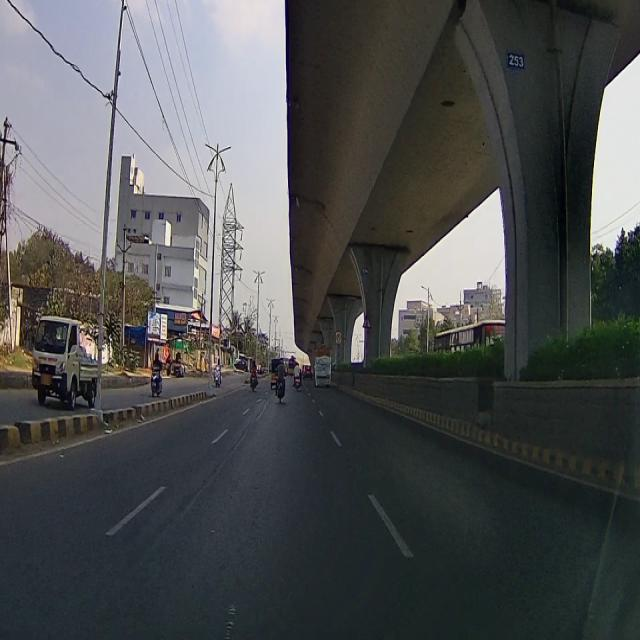gap-in-median: (363, 314, 371, 330)
